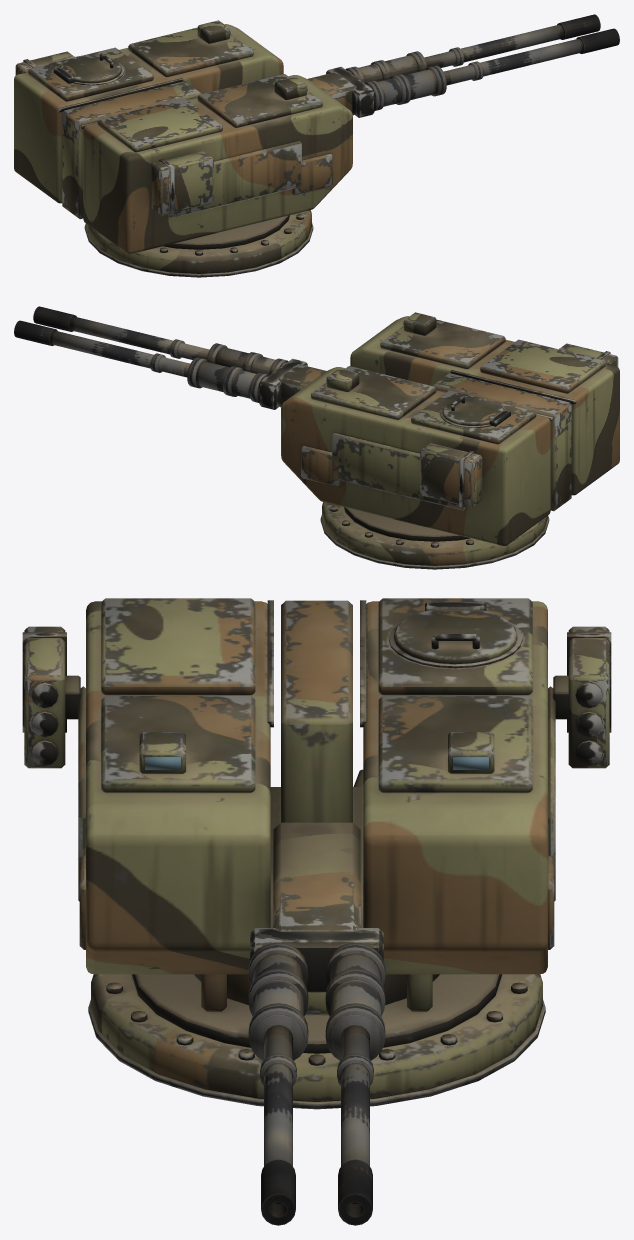
The model's file is turret_kit_t1_steppe.glb.
The picture shows the model from 3 angles, top to bottom: view 1: azimuth 30°, elevation 25°; view 2: azimuth 150°, elevation 25°; view 3: azimuth 270°, elevation 25°; orthographic projection. The views are drawn at different scales.
Parts seen in each view (by area): view 1: turret_twin_t1, guns, pods; view 2: turret_twin_t1, guns, pods; view 3: turret_twin_t1, guns, pods.
Boxes of the visible parts, x1=… form: turret_twin_t1: x1=14, y1=20, x2=352, y2=277; guns: x1=308, y1=14, x2=619, y2=117; pods: x1=15, y1=51, x2=213, y2=215; turret_twin_t1: x1=281, y1=312, x2=619, y2=569; guns: x1=14, y1=306, x2=325, y2=409; pods: x1=420, y1=343, x2=618, y2=507; turret_twin_t1: x1=78, y1=598, x2=555, y2=1109; guns: x1=248, y1=822, x2=385, y2=1225; pods: x1=22, y1=626, x2=611, y2=768.
Bounding box in the file's own units: 2.41 × 0.695 × 1.15.
4 materials, 3 textured.
